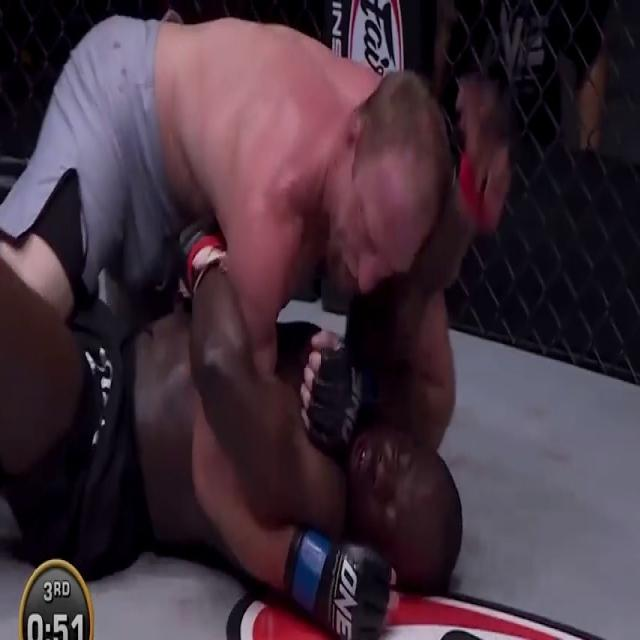fight: (0, 0, 495, 639)
